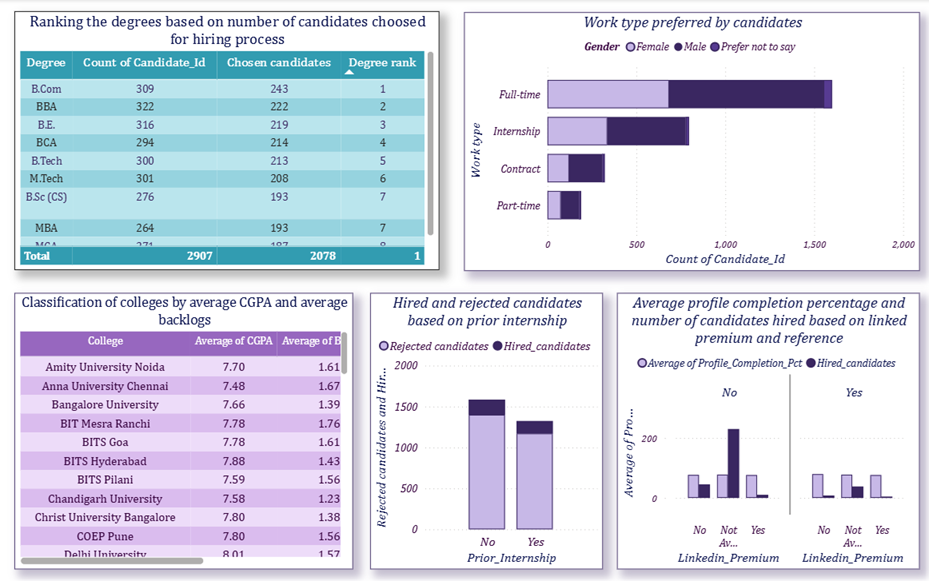

This screenshot's page, from the dashboard's own definition file:
{"tool":"powerbi","page":{"name":"Page 4","canvas":[1140,720],"ordinal":3},"visuals":[{"type":"columnChart","title":"Hired and rejected candidates based on prior internship","fields":{"Category":["freshers_hiring_india_dataset.Prior_Internship"],"Y":["freshers_hiring_india_dataset.Rejected candidates","freshers_hiring_india_dataset.Hired_candidates"]},"box":[454.9,359.5,284.9,338.7],"z":0},{"type":"barChart","title":"Work type preferred by candidates","fields":{"Category":["freshers_hiring_india_dataset.Work_Type"],"Y":["CountNonNull(freshers_hiring_india_dataset.Candidate_Id)"],"Series":["freshers_hiring_india_dataset.Gender"]},"box":[569.8,15.9,557.6,316.7],"z":1000},{"type":"clusteredColumnChart","title":"Average profile completion percentage and number of candidates hired based on linked premium and reference","fields":{"Category":["freshers_hiring_india_dataset.Linkedin_Premium"],"Y":["Avg(freshers_hiring_india_dataset.Profile_Completion_Pct)","freshers_hiring_india_dataset.Hired_candidates"],"Rows":["freshers_hiring_india_dataset.Referral_Applied"]},"box":[756.9,359.5,370.5,338.7],"z":2000},{"type":"tableEx","title":"Ranking the degrees based on number of candidates choosed for hiring process","fields":{"Values":["freshers_hiring_india_dataset.Degree","CountNonNull(freshers_hiring_india_dataset.Candidate_Id)","freshers_hiring_india_dataset.Recruited candidates","freshers_hiring_india_dataset.Degree rank"]},"box":[19.6,14.7,519.7,316.7],"z":3000},{"type":"tableEx","title":"Classification of colleges by average CGPA and average backlogs","fields":{"Values":["freshers_hiring_india_dataset.College","Avg(freshers_hiring_india_dataset.CGPA)","Avg(freshers_hiring_india_dataset.Backlogs)","freshers_hiring_india_dataset.Classification"]},"box":[19.6,359.5,414.5,338.7],"z":4000}]}

Visuals, with their boxes in screenshot pixels (x1, y1, x2, y2), scaled from the page's 1140x720 canvas onto the 940x581 screenshot:
"Hired and rejected candidates based on prior internship" columnChart: (375, 290, 610, 563)
"Work type preferred by candidates" barChart: (470, 13, 930, 268)
"Average profile completion percentage and number of candidates hired based on linked premium and reference" clusteredColumnChart: (624, 290, 930, 563)
"Ranking the degrees based on number of candidates choosed for hiring process" tableEx: (16, 12, 445, 267)
"Classification of colleges by average CGPA and average backlogs" tableEx: (16, 290, 358, 563)
